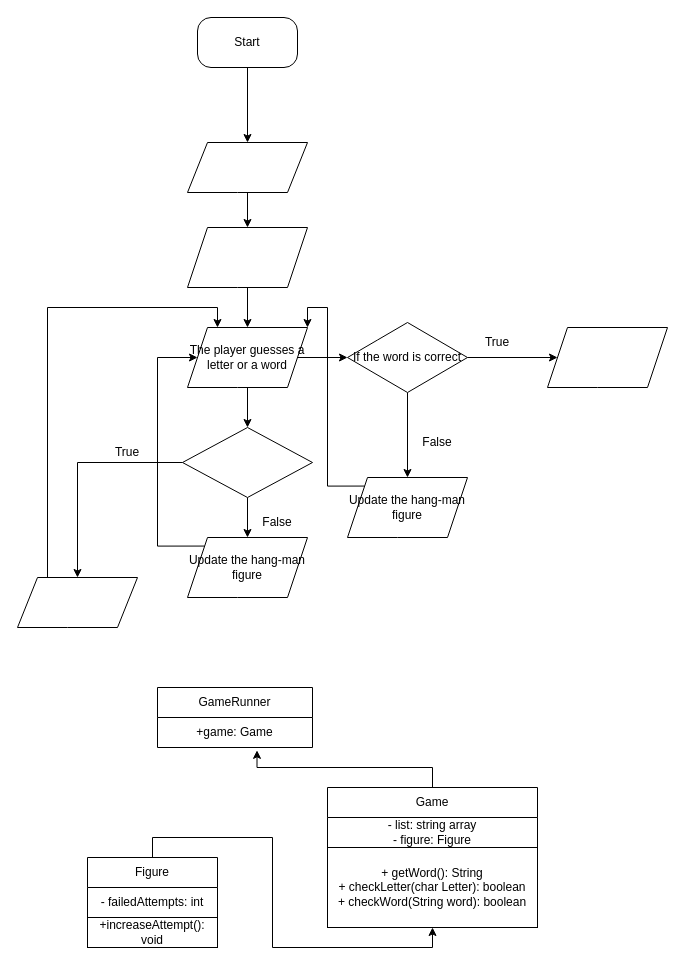
Some shapes in this 685 by 973 pixel diagram are drawn without their labels. Here are the shapes that lost their labels. From the top down, the centre of each, then its label:
At pixel 247 167: "A random word is selected from an array".
At pixel 247 257: "The length of the word is displayed".
At pixel 607 357: "End game".
At pixel 247 462: "If the letter is present in the word".
At pixel 77 602: "Display the positions of the letter".
